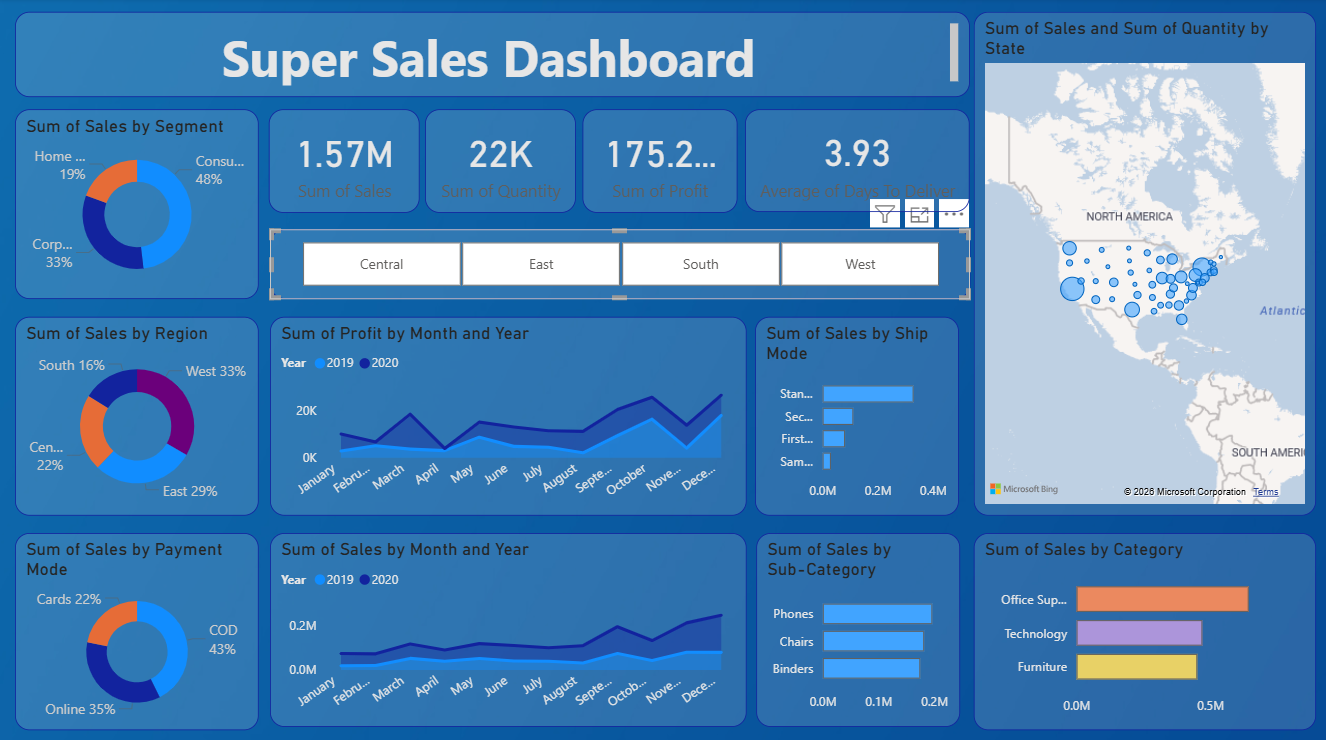

The dashboard page shown, as its layout file describes it:
{"tool":"powerbi","page":{"name":"Dashboard","canvas":[1280,720],"ordinal":0},"visuals":[{"type":"clusteredBarChart","fields":{"Category":["SuperStore_Sales_Dataset.Category"],"Y":["Sum(SuperStore_Sales_Dataset.Sales)"]},"box":[939.8,516.4,330.6,190.6],"z":0},{"type":"clusteredBarChart","fields":{"Category":["SuperStore_Sales_Dataset.Sub-Category"],"Y":["Sum(SuperStore_Sales_Dataset.Sales)"]},"box":[729.9,516.4,196.6,187],"z":1000},{"type":"clusteredBarChart","fields":{"Category":["SuperStore_Sales_Dataset.Ship Mode"],"Y":["Sum(SuperStore_Sales_Dataset.Sales)"]},"box":[728.7,307.6,196.6,191.8],"z":2000},{"type":"stackedAreaChart","fields":{"Y":["Sum(SuperStore_Sales_Dataset.Sales)"],"Series":["SuperStore_Sales_Dataset.Order Date.Variation.Date Hierarchy.Year"],"Category":["SuperStore_Sales_Dataset.Order Date.Variation.Date Hierarchy.Month","SuperStore_Sales_Dataset.Order Date.Variation.Date Hierarchy.Day"]},"box":[260.6,516.4,459.7,187],"z":3000},{"type":"stackedAreaChart","fields":{"Series":["SuperStore_Sales_Dataset.Order Date.Variation.Date Hierarchy.Year"],"Category":["SuperStore_Sales_Dataset.Order Date.Variation.Date Hierarchy.Month","SuperStore_Sales_Dataset.Order Date.Variation.Date Hierarchy.Day"],"Y":["Sum(SuperStore_Sales_Dataset.Profit)"]},"box":[260.6,307.6,459.7,191.8],"z":4000},{"type":"map","fields":{"Category":["SuperStore_Sales_Dataset.State"],"Size":["Sum(SuperStore_Sales_Dataset.Sales)"]},"box":[939.8,13.3,330.6,486.2],"z":5000},{"type":"donutChart","fields":{"Category":["SuperStore_Sales_Dataset.Region","SuperStore_Sales_Dataset.Segment"],"Y":["Sum(SuperStore_Sales_Dataset.Sales)"]},"box":[14.5,307.6,235.3,191.8],"z":6000},{"type":"donutChart","fields":{"Category":["SuperStore_Sales_Dataset.Payment Mode"],"Y":["Sum(SuperStore_Sales_Dataset.Sales)"]},"box":[14.5,516.4,235.3,190.6],"z":7000},{"type":"slicer","fields":{"Values":["SuperStore_Sales_Dataset.Region"]},"box":[260.6,223.2,675.6,67.6],"z":8000},{"type":"card","fields":{"Values":["Sum(SuperStore_Sales_Dataset.Sales)"]},"box":[259.4,107.4,146,100.1],"z":9000},{"type":"card","fields":{"Values":["Sum(SuperStore_Sales_Dataset.Quantity)"]},"box":[410.2,107.4,146,100.1],"z":10000},{"type":"card","fields":{"Values":["Avg(SuperStore_Sales_Dataset.Avg Days To Deliver)"]},"box":[719,107.4,217.2,98.9],"z":11000},{"type":"card","fields":{"Values":["Sum(SuperStore_Sales_Dataset.Profit)"]},"box":[562.2,107.4,149.6,100.1],"z":12000},{"type":"donutChart","fields":{"Category":["SuperStore_Sales_Dataset.Segment"],"Y":["Sum(SuperStore_Sales_Dataset.Sales)"]},"box":[14.5,107.4,235.3,183.4],"z":13000},{"type":"textbox","box":[14.5,13.3,921.7,82],"z":14000}]}

Visuals, with their boxes in screenshot pixels (x1, y1, x2, y2), scaled from the page's 1280x720 canvas onto the 1326x740 screenshot:
clusteredBarChart - SuperStore_Sales_Dataset.Category x Sum(SuperStore_Sales_Dataset.Sales): [left=974, top=531, right=1316, bottom=727]
clusteredBarChart - SuperStore_Sales_Dataset.Sub-Category x Sum(SuperStore_Sales_Dataset.Sales): [left=756, top=531, right=960, bottom=723]
clusteredBarChart - SuperStore_Sales_Dataset.Ship Mode x Sum(SuperStore_Sales_Dataset.Sales): [left=755, top=316, right=959, bottom=513]
stackedAreaChart - Sum(SuperStore_Sales_Dataset.Sales) x SuperStore_Sales_Dataset.Order Date.Variation.Date Hierarchy.Year: [left=270, top=531, right=746, bottom=723]
stackedAreaChart - SuperStore_Sales_Dataset.Order Date.Variation.Date Hierarchy.Year x SuperStore_Sales_Dataset.Order Date.Variation.Date Hierarchy.Month: [left=270, top=316, right=746, bottom=513]
map - SuperStore_Sales_Dataset.State x Sum(SuperStore_Sales_Dataset.Sales): [left=974, top=14, right=1316, bottom=513]
donutChart - SuperStore_Sales_Dataset.Region x SuperStore_Sales_Dataset.Segment: [left=15, top=316, right=259, bottom=513]
donutChart - SuperStore_Sales_Dataset.Payment Mode x Sum(SuperStore_Sales_Dataset.Sales): [left=15, top=531, right=259, bottom=727]
slicer - SuperStore_Sales_Dataset.Region: [left=270, top=229, right=970, bottom=299]
card - Sum(SuperStore_Sales_Dataset.Sales): [left=269, top=110, right=420, bottom=213]
card - Sum(SuperStore_Sales_Dataset.Quantity): [left=425, top=110, right=576, bottom=213]
card - Avg(SuperStore_Sales_Dataset.Avg Days To Deliver): [left=745, top=110, right=970, bottom=212]
card - Sum(SuperStore_Sales_Dataset.Profit): [left=582, top=110, right=737, bottom=213]
donutChart - SuperStore_Sales_Dataset.Segment x Sum(SuperStore_Sales_Dataset.Sales): [left=15, top=110, right=259, bottom=299]
textbox: [left=15, top=14, right=970, bottom=98]
